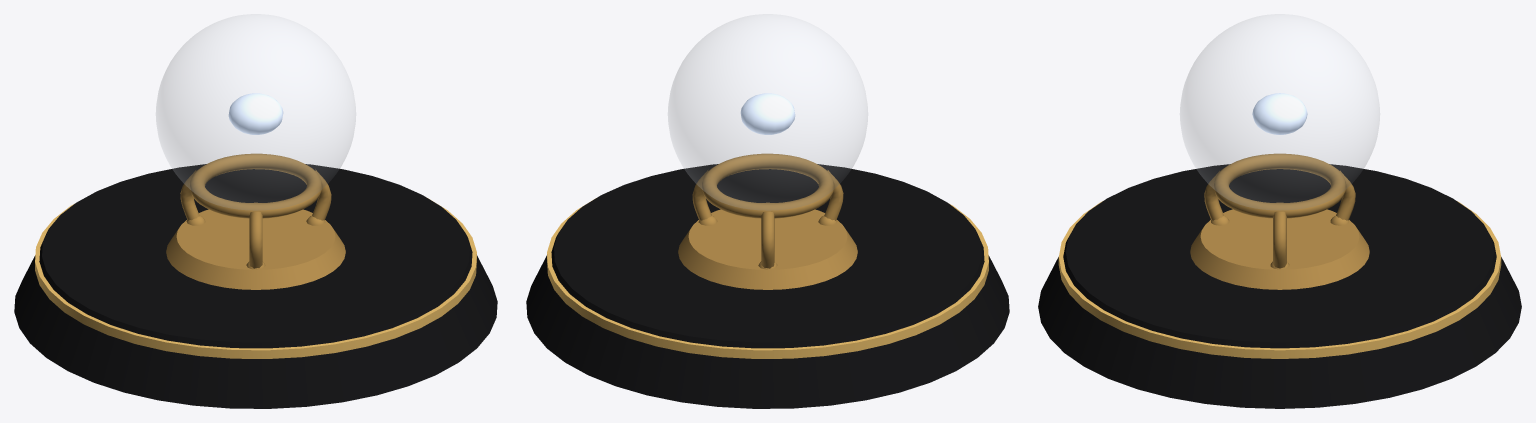
File: crystal-ball.glb
The picture shows the model from 3 angles, left to right: view 1: azimuth 30°, elevation 25°; view 2: azimuth 150°, elevation 25°; view 3: azimuth 270°, elevation 25°; orthographic projection.
Visible parts, largest first — view 1: black, glass, brass, gold, gem; view 2: black, glass, brass, gold, gem; view 3: black, glass, brass, gold, gem.
Boxes of the visible parts, x1,y1,x2,y2 form: black: (14,164,497,408); glass: (156,14,355,210); brass: (166,153,345,289); gold: (35,198,476,358); gem: (228,93,283,134); black: (526,164,1009,408); glass: (668,14,867,210); brass: (678,153,857,289); gold: (547,198,988,358); gem: (740,93,795,134); black: (1038,164,1521,408); glass: (1180,14,1379,209); brass: (1190,153,1369,289); gold: (1058,201,1501,358); gem: (1252,93,1307,134).
Size of the model in its own units: 0.28 by 0.181 by 0.28.
